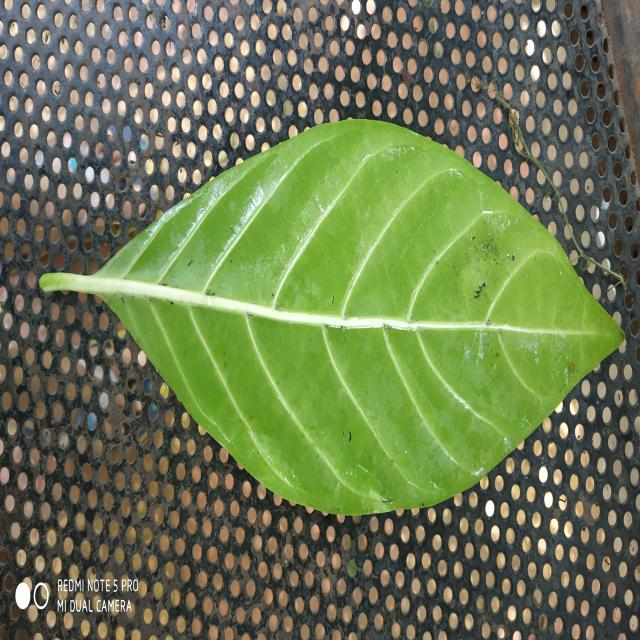nooni: (40, 120, 624, 513)
